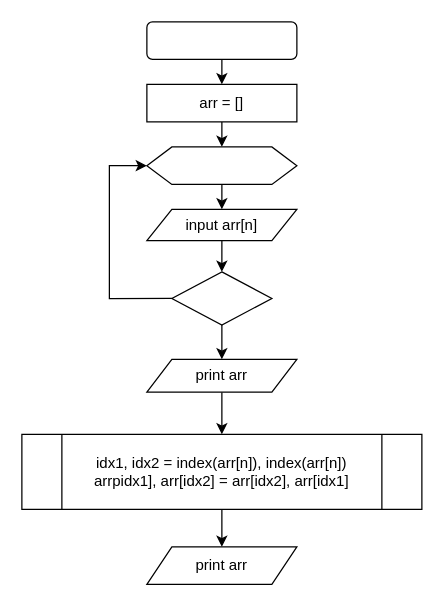
Image size: 444x606. Some labels were removed from this diagram. Each missing label, with the centre of its shape:
i = 0 .. 9: (x=221, y=165)
i == 9: (x=221, y=298)
Start: (x=221, y=40)
